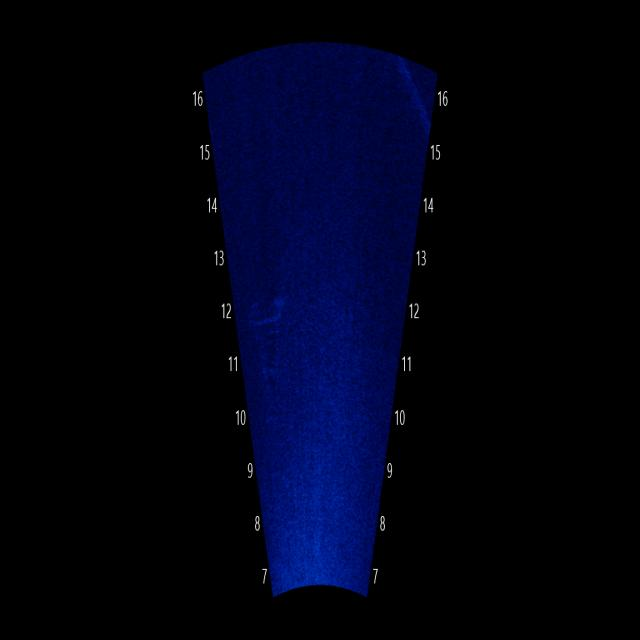triangle: (247, 278, 294, 429)
